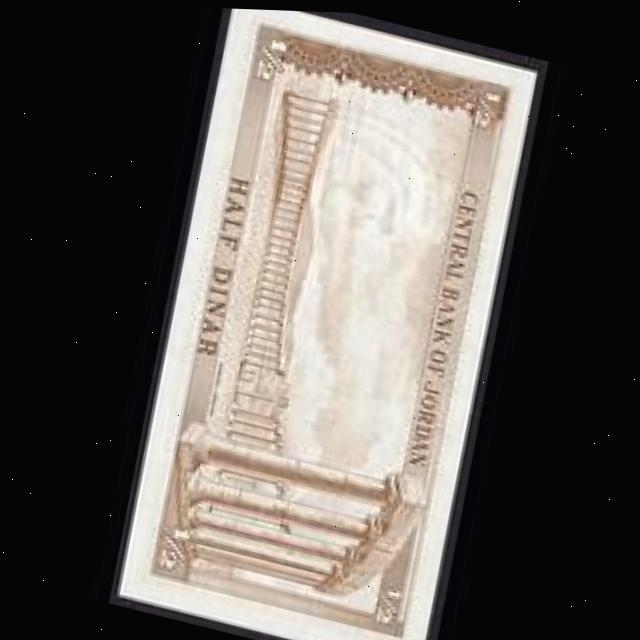banknote: (100, 3, 556, 640)
